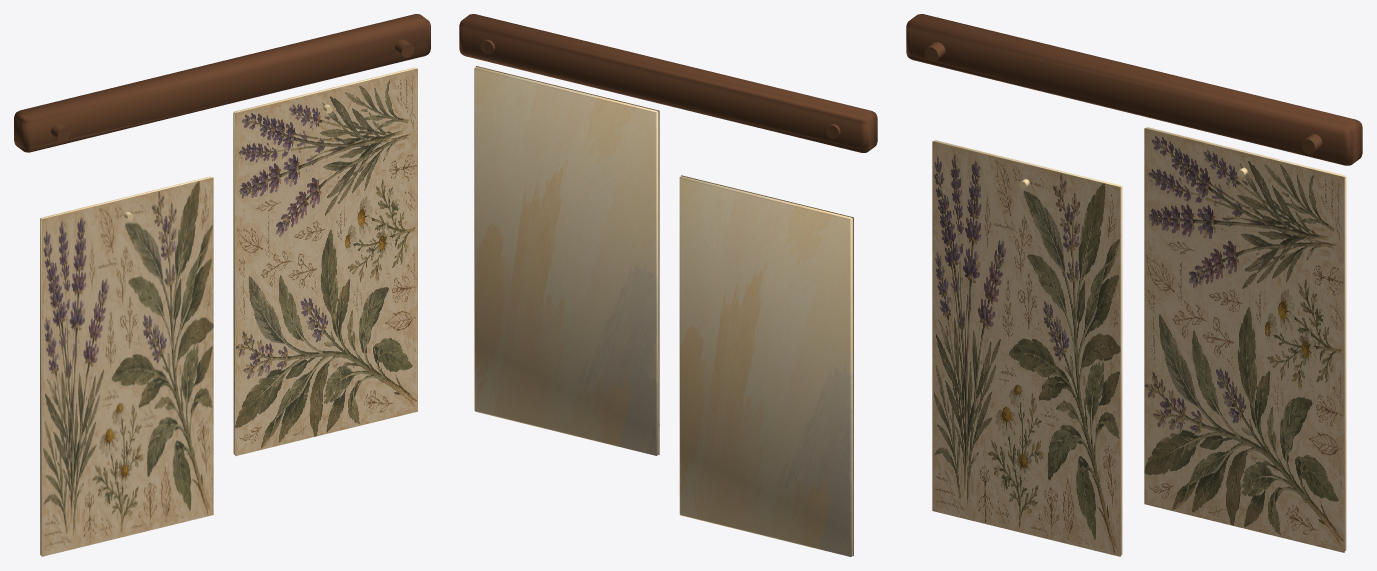
Rendered from CM_IL04_BotanicalArchive.fbx.
The picture shows the model from 3 angles, left to right: view 1: azimuth 30°, elevation 25°; view 2: azimuth 150°, elevation 25°; view 3: azimuth 330°, elevation 25°; orthographic projection. The views are drawn at different scales.
Visible parts, largest first — view 1: CM_IL04_BotanicalArchive; view 2: CM_IL04_BotanicalArchive; view 3: CM_IL04_BotanicalArchive.
Part boxes in pixels (box(x1,y1,x2,y2)): CM_IL04_BotanicalArchive: box(14, 14, 430, 556); CM_IL04_BotanicalArchive: box(459, 14, 877, 556); CM_IL04_BotanicalArchive: box(906, 14, 1362, 556).
Size of the model in its own units: 0.76 by 0.7925 by 0.071.
